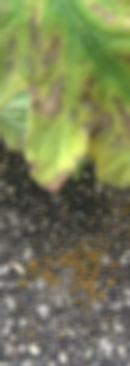Tomato mold leaf: (0, 0, 130, 224)
